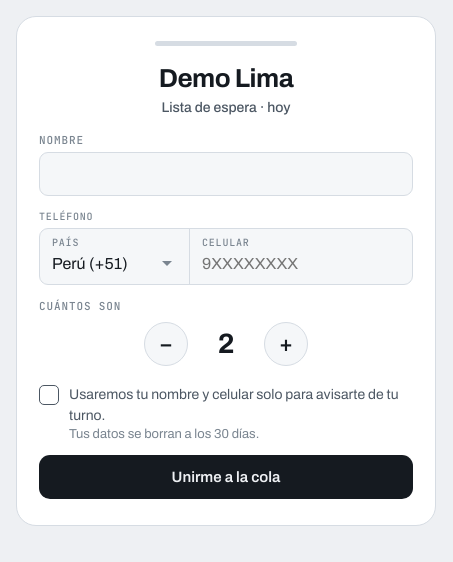
Test: JoinPage: formulario › sin la casilla de consentimiento marcada no envia el formulario
The width and height of the screenshot is (453, 562).
Expected: the heading "Demo Lima" is shown, [159,64,293,92]
Type "Ana Torres" into the field labelled "Nombre".
click(226, 174); type("Ana Torres")  # box [39,152,413,196]
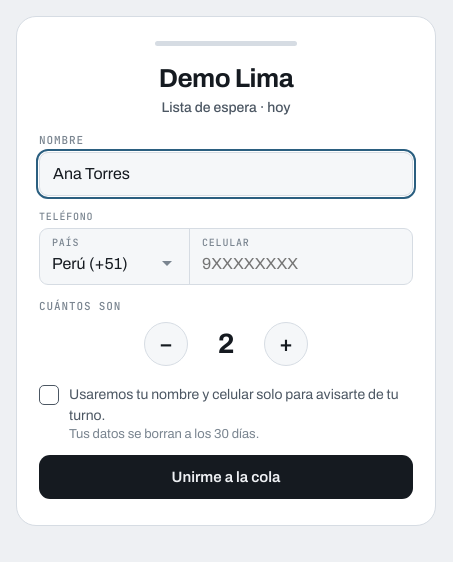
Type "987654321" into the field labelled "Celular".
click(301, 264); type("987654321")  # box [202,251,400,277]
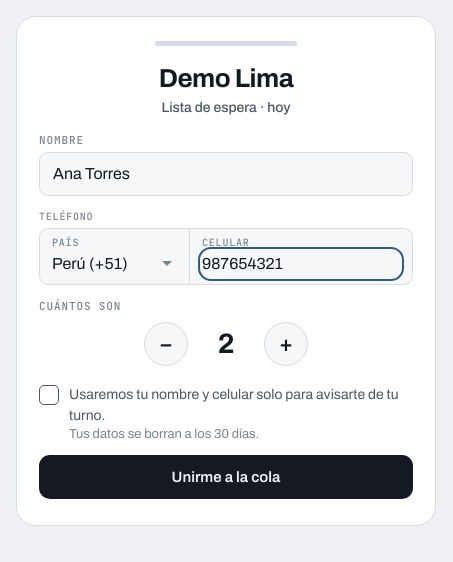
Consentimiento deliberadamente sin marcar.
Click the button "Unirme a la cola".
click(226, 477)  # box [39,455,413,499]
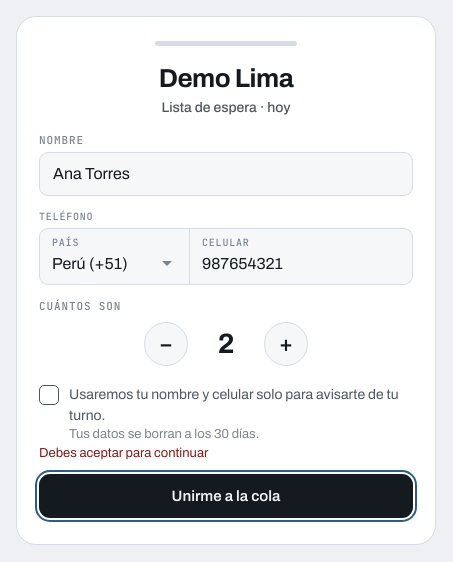
Expected: the text "Debes aceptar para continuar" is shown, [39,446,208,460]
